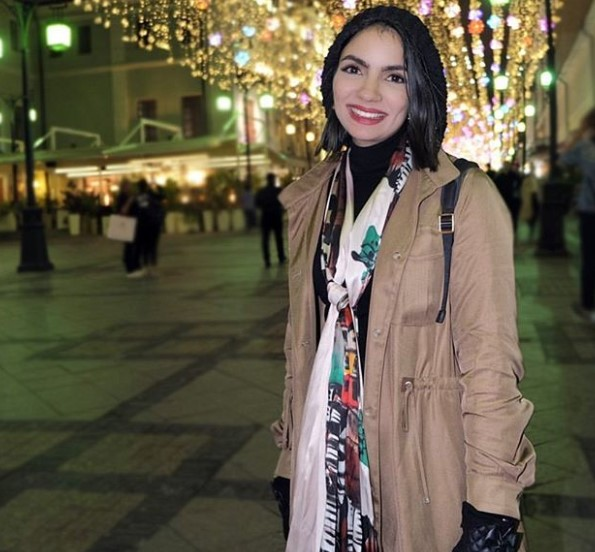face_no_mask: (331, 11, 430, 144)
